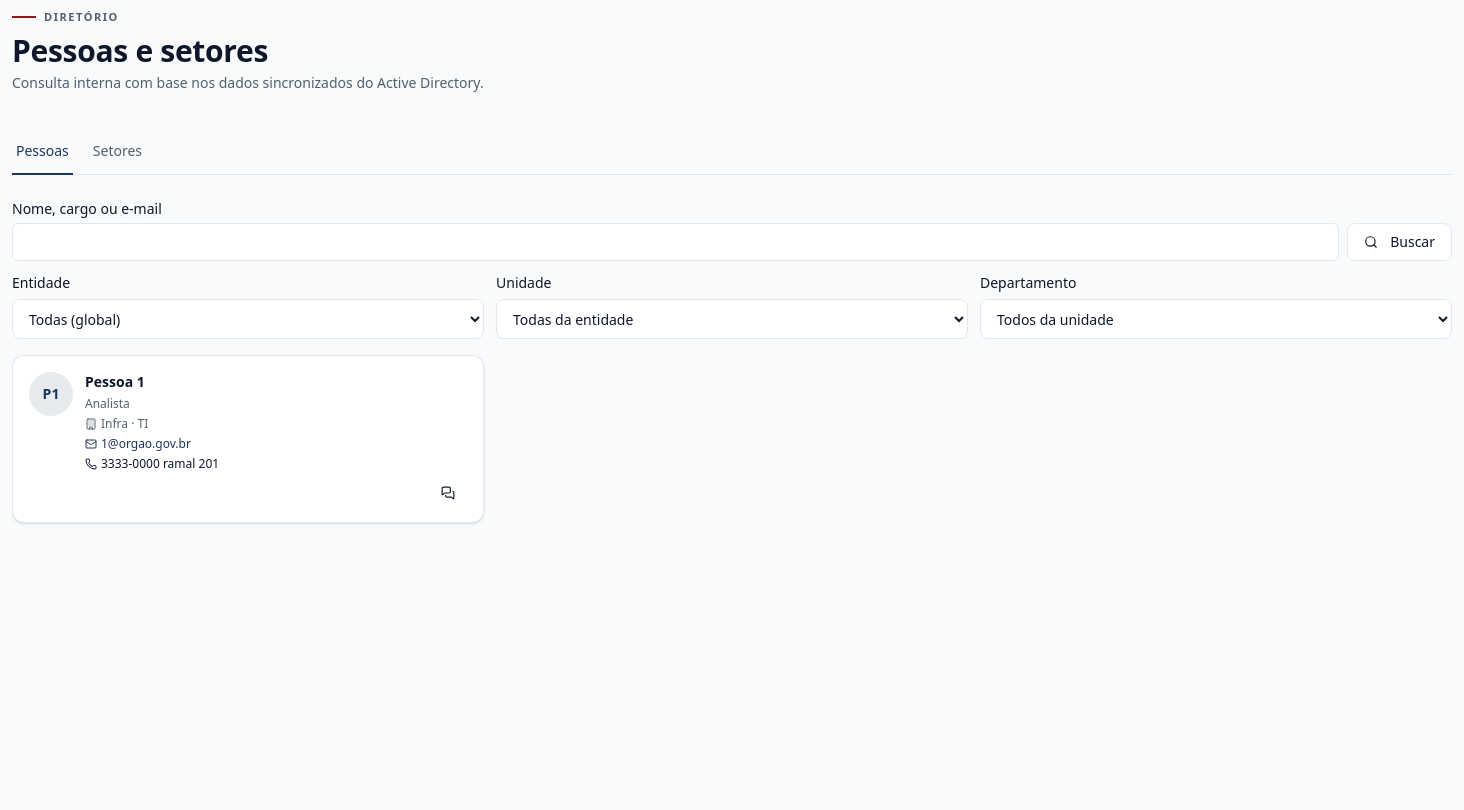
Scenario: Diretório › falha ao abrir conversa e erros de carga
Step 1. Click the button named "Conversar com Pessoa 1" → (448, 493), box [429,480,467,506]
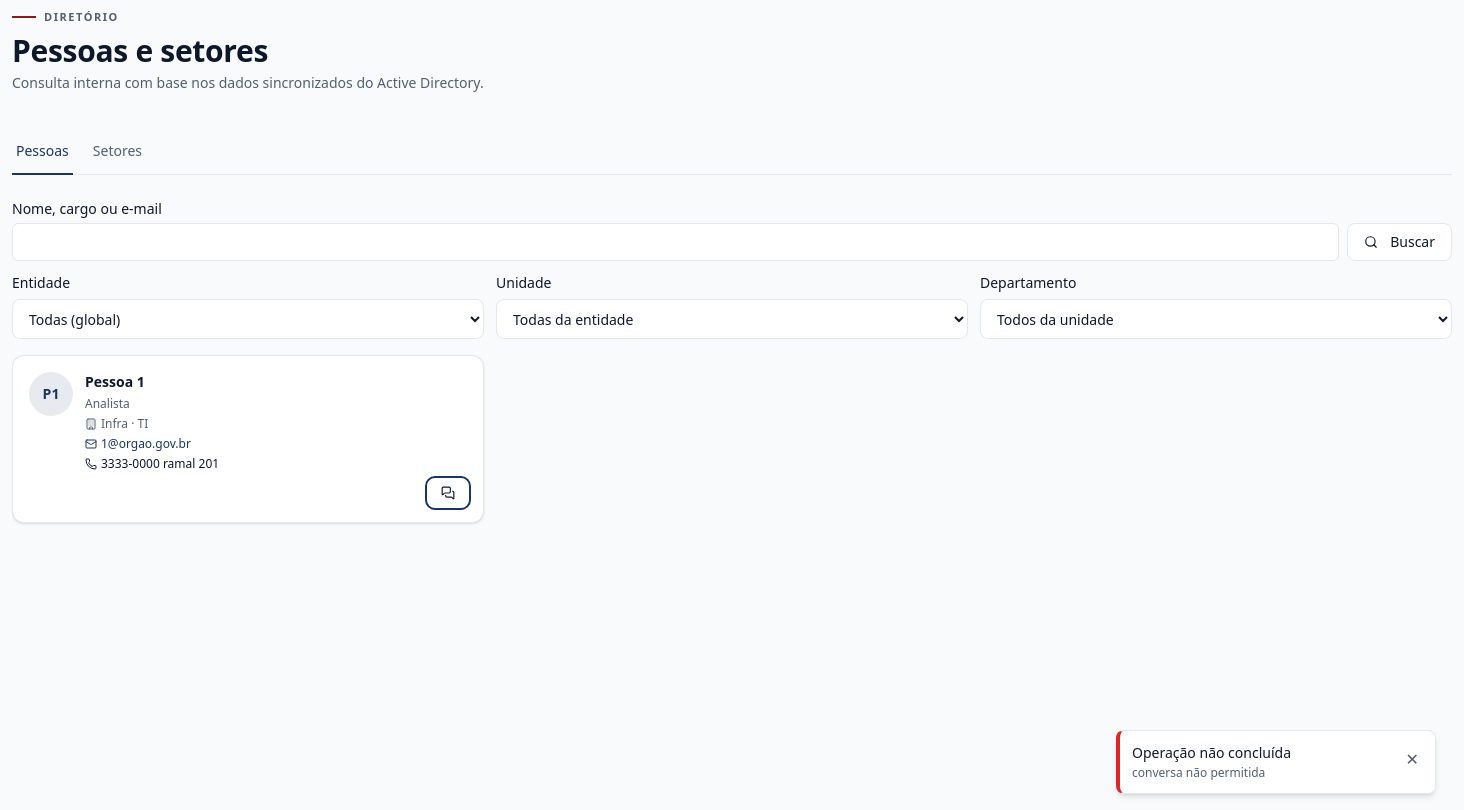
Check: the text "conversa não permitida" is shown, box [1132,764,1265,781]
Step 2. Click the tab "Setores" → (117, 158), box [89,141,146,175]
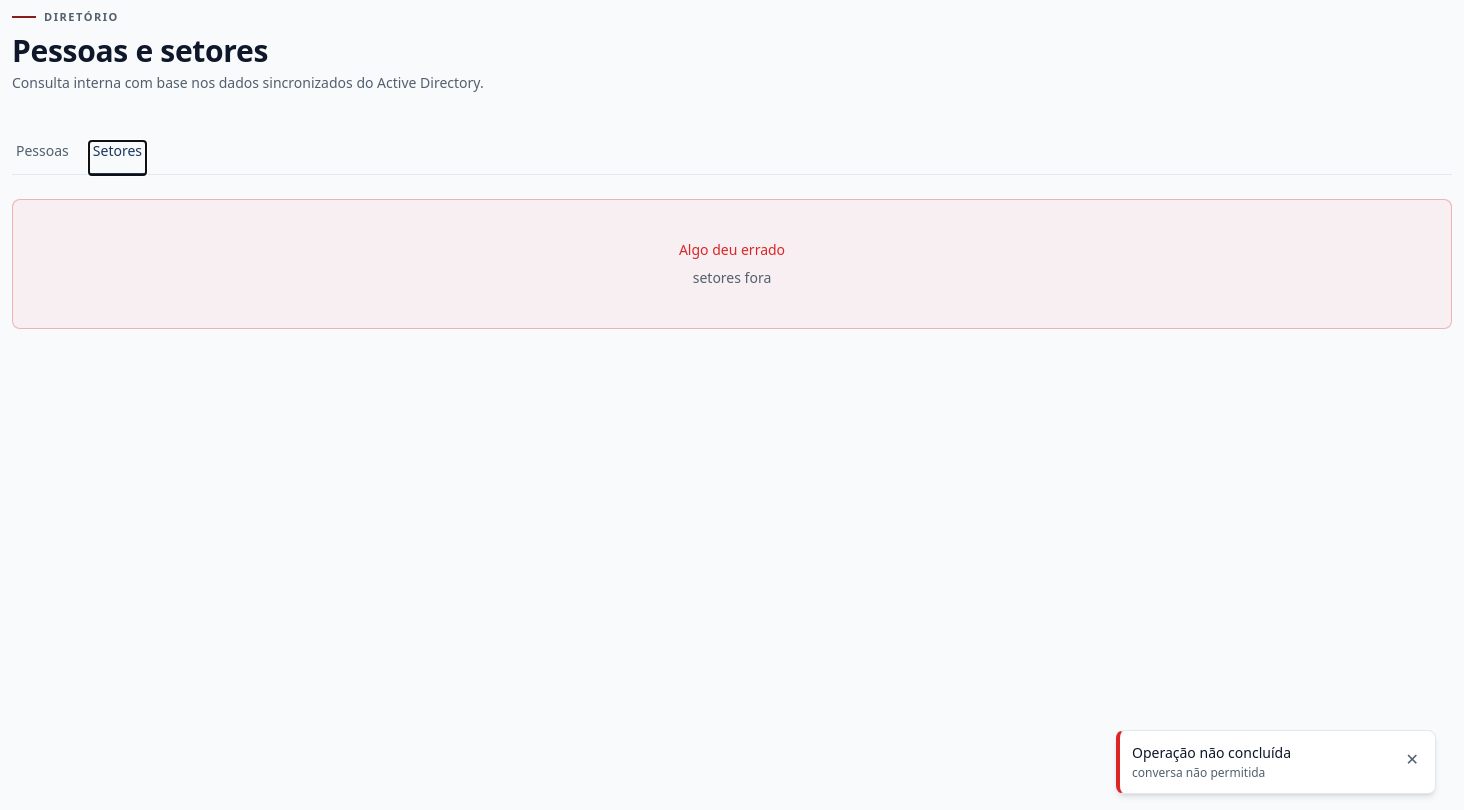
Check: the text "setores fora" is shown, box [693,268,771,288]
